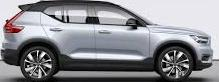SUV: (3, 1, 213, 82)
